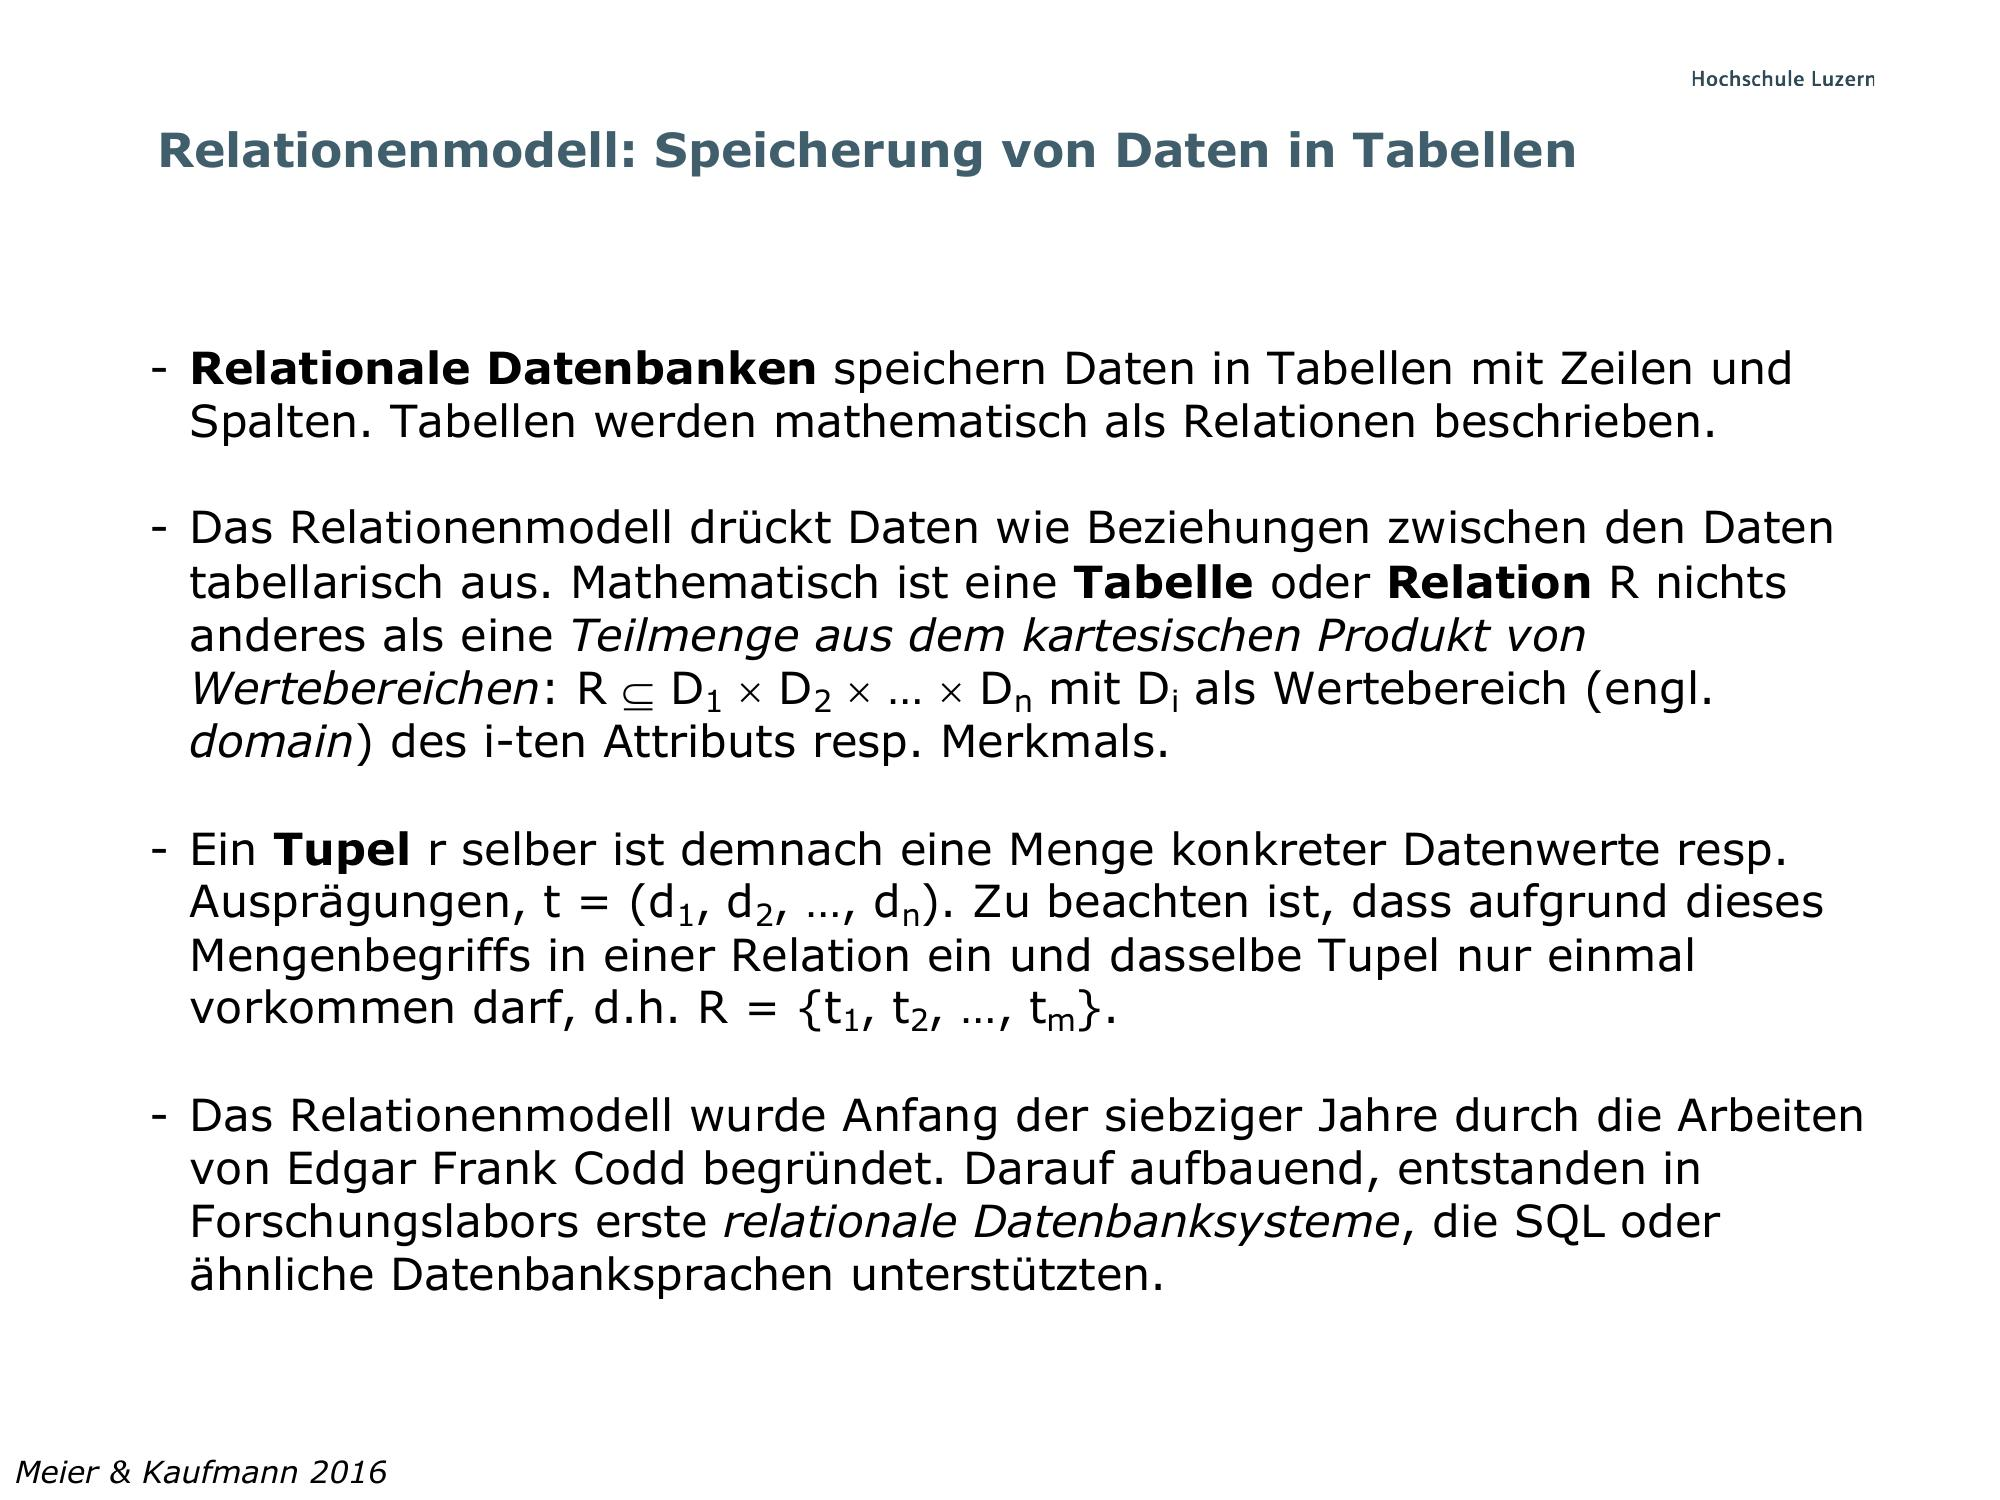Title: (146, 99, 1584, 184)
